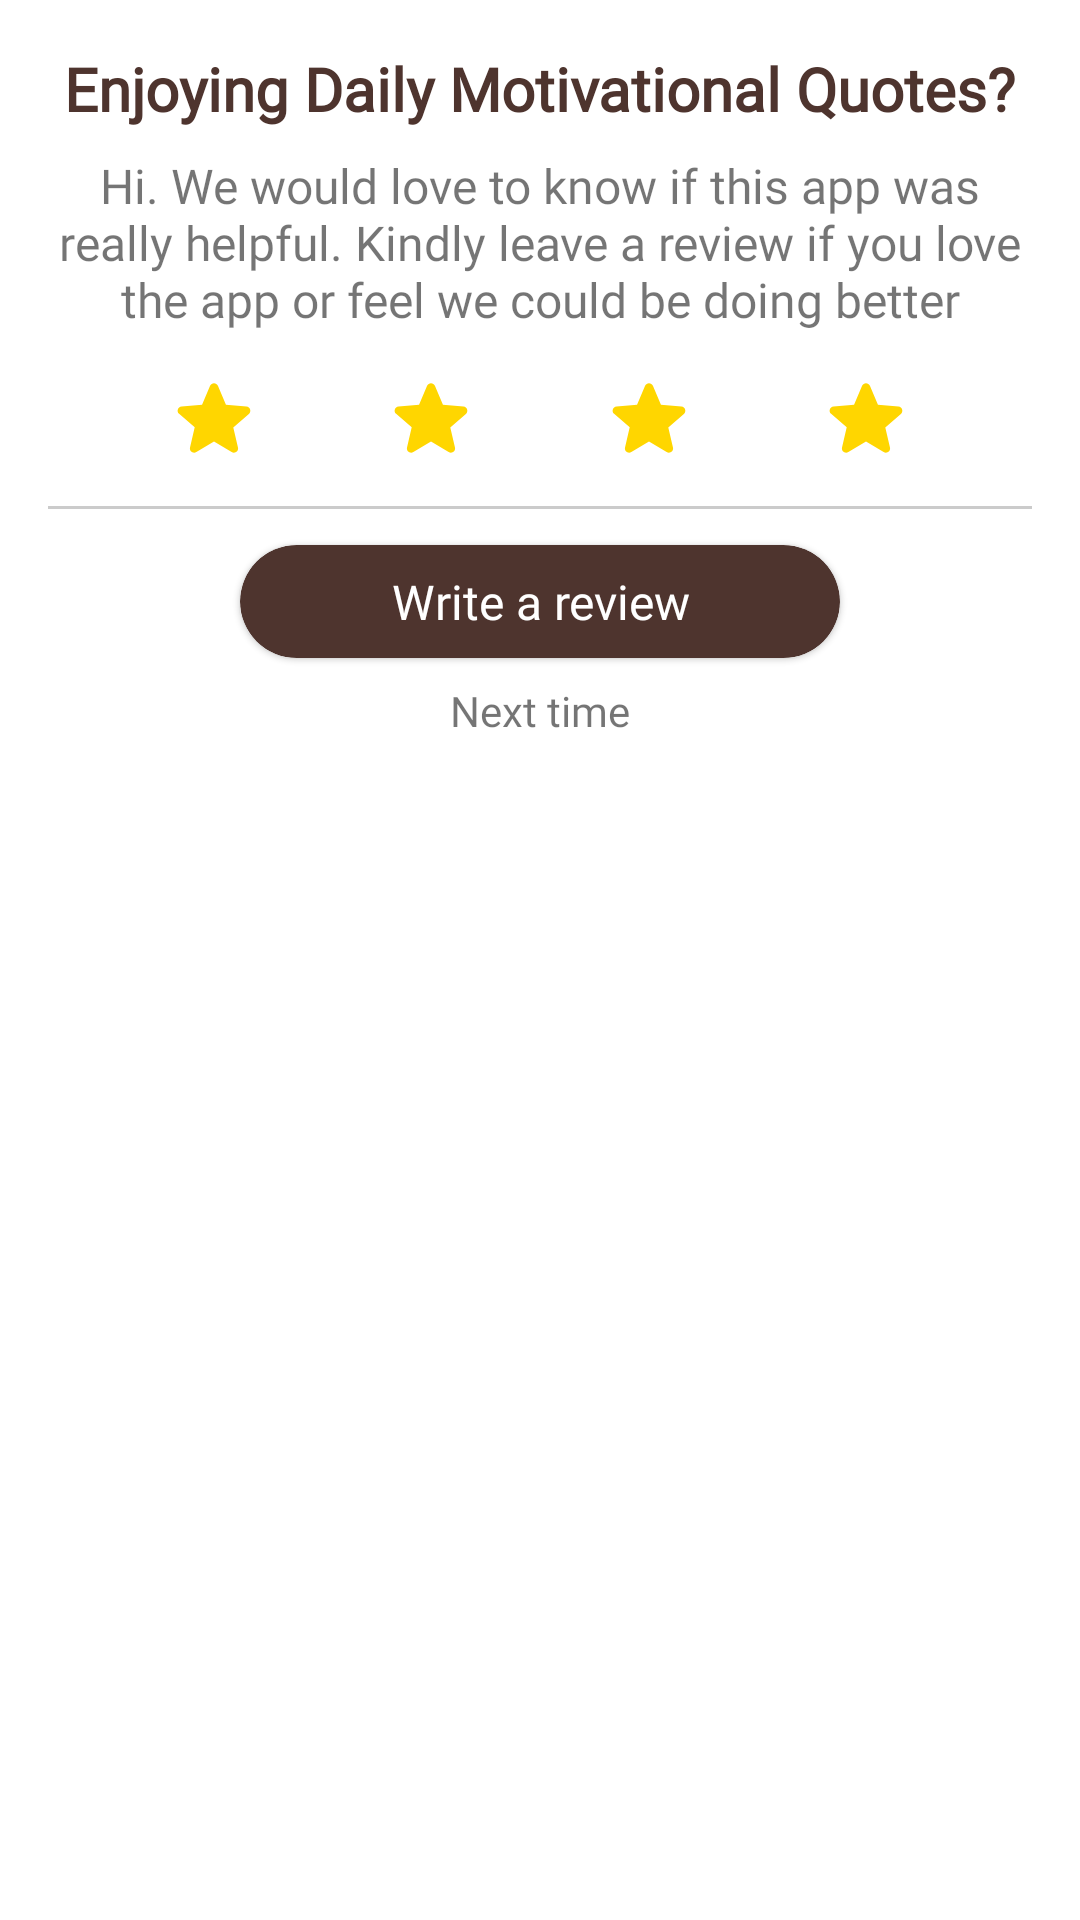

Icon click points for this 1080w x 1920h phone screenshot, format [x,y]:
ratings star: [214,418], [431,418], [649,418], [866,418]
